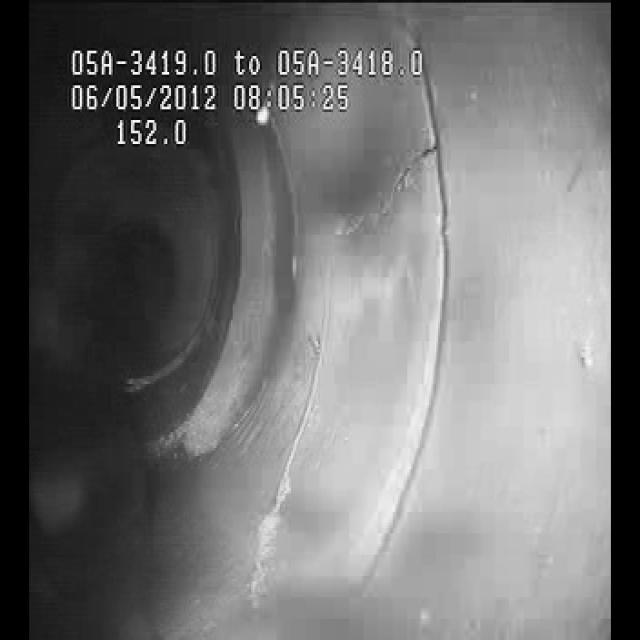Crack: (260, 152, 418, 480)
